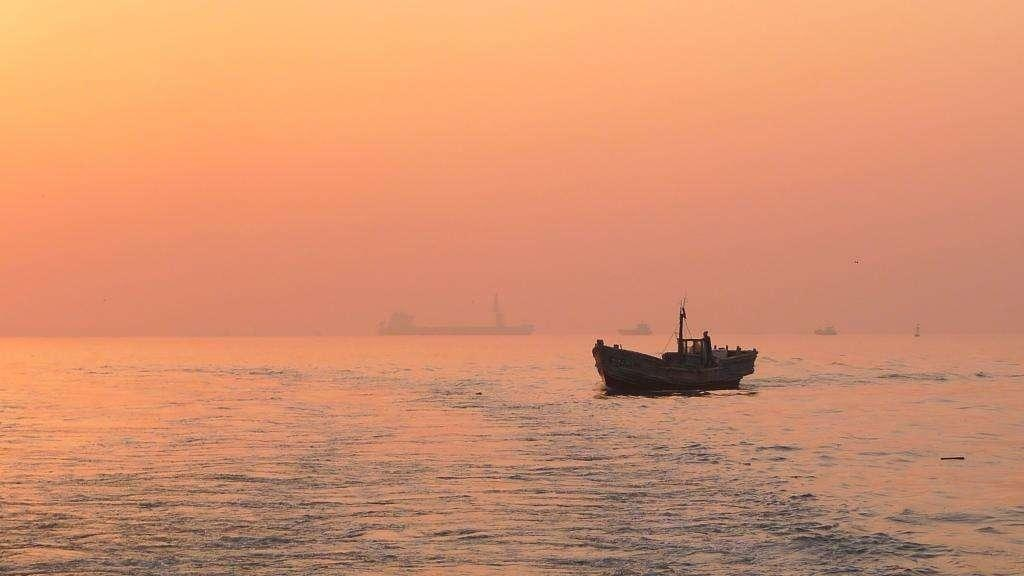otherboat: (592, 297, 771, 397)
